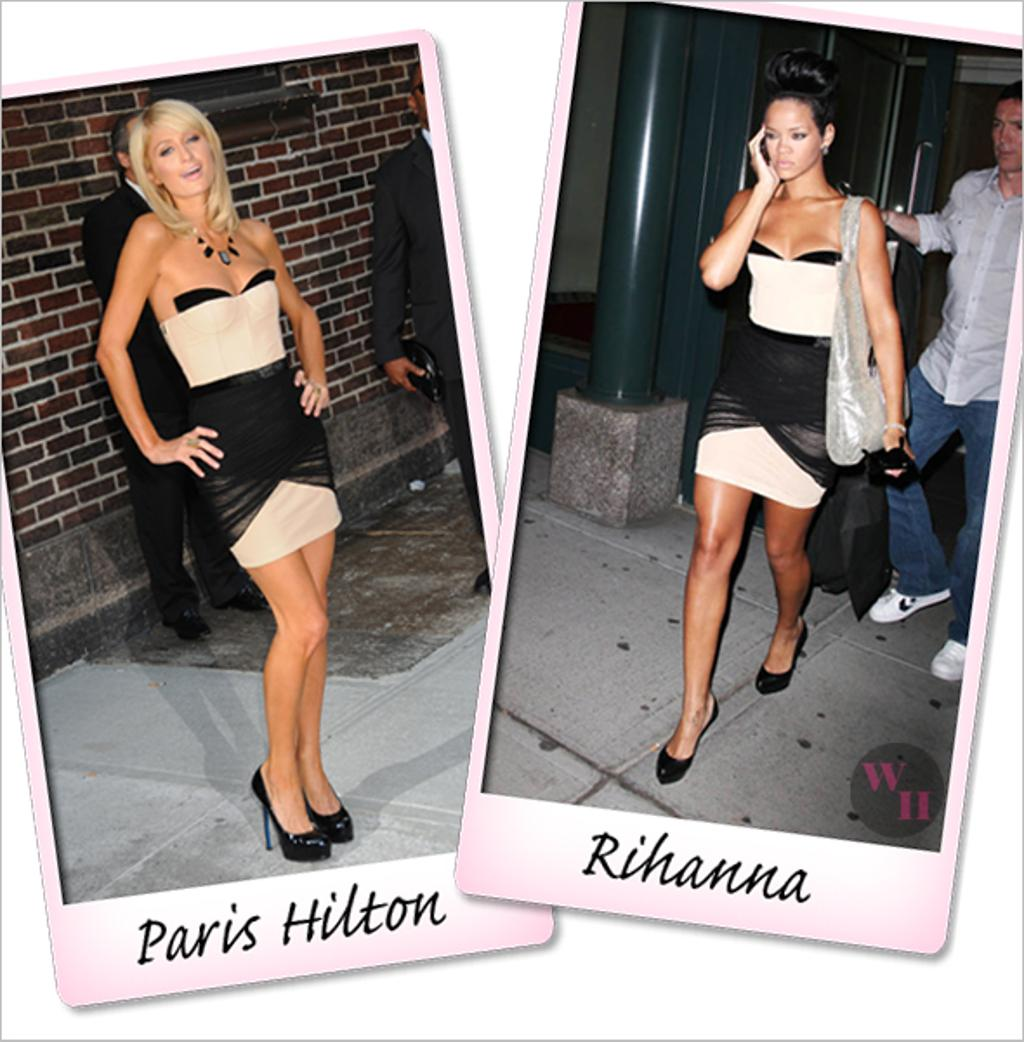face: (146, 124, 213, 195), (764, 106, 821, 178), (994, 104, 1024, 171)
